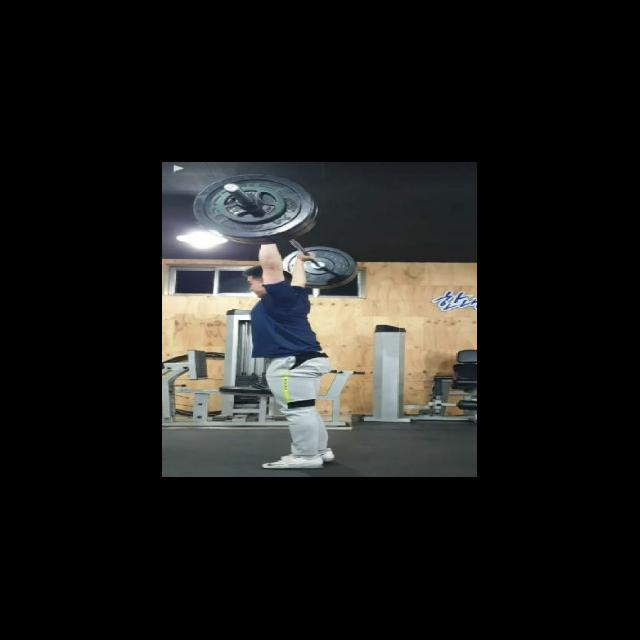barbell: (192, 170, 323, 247)
